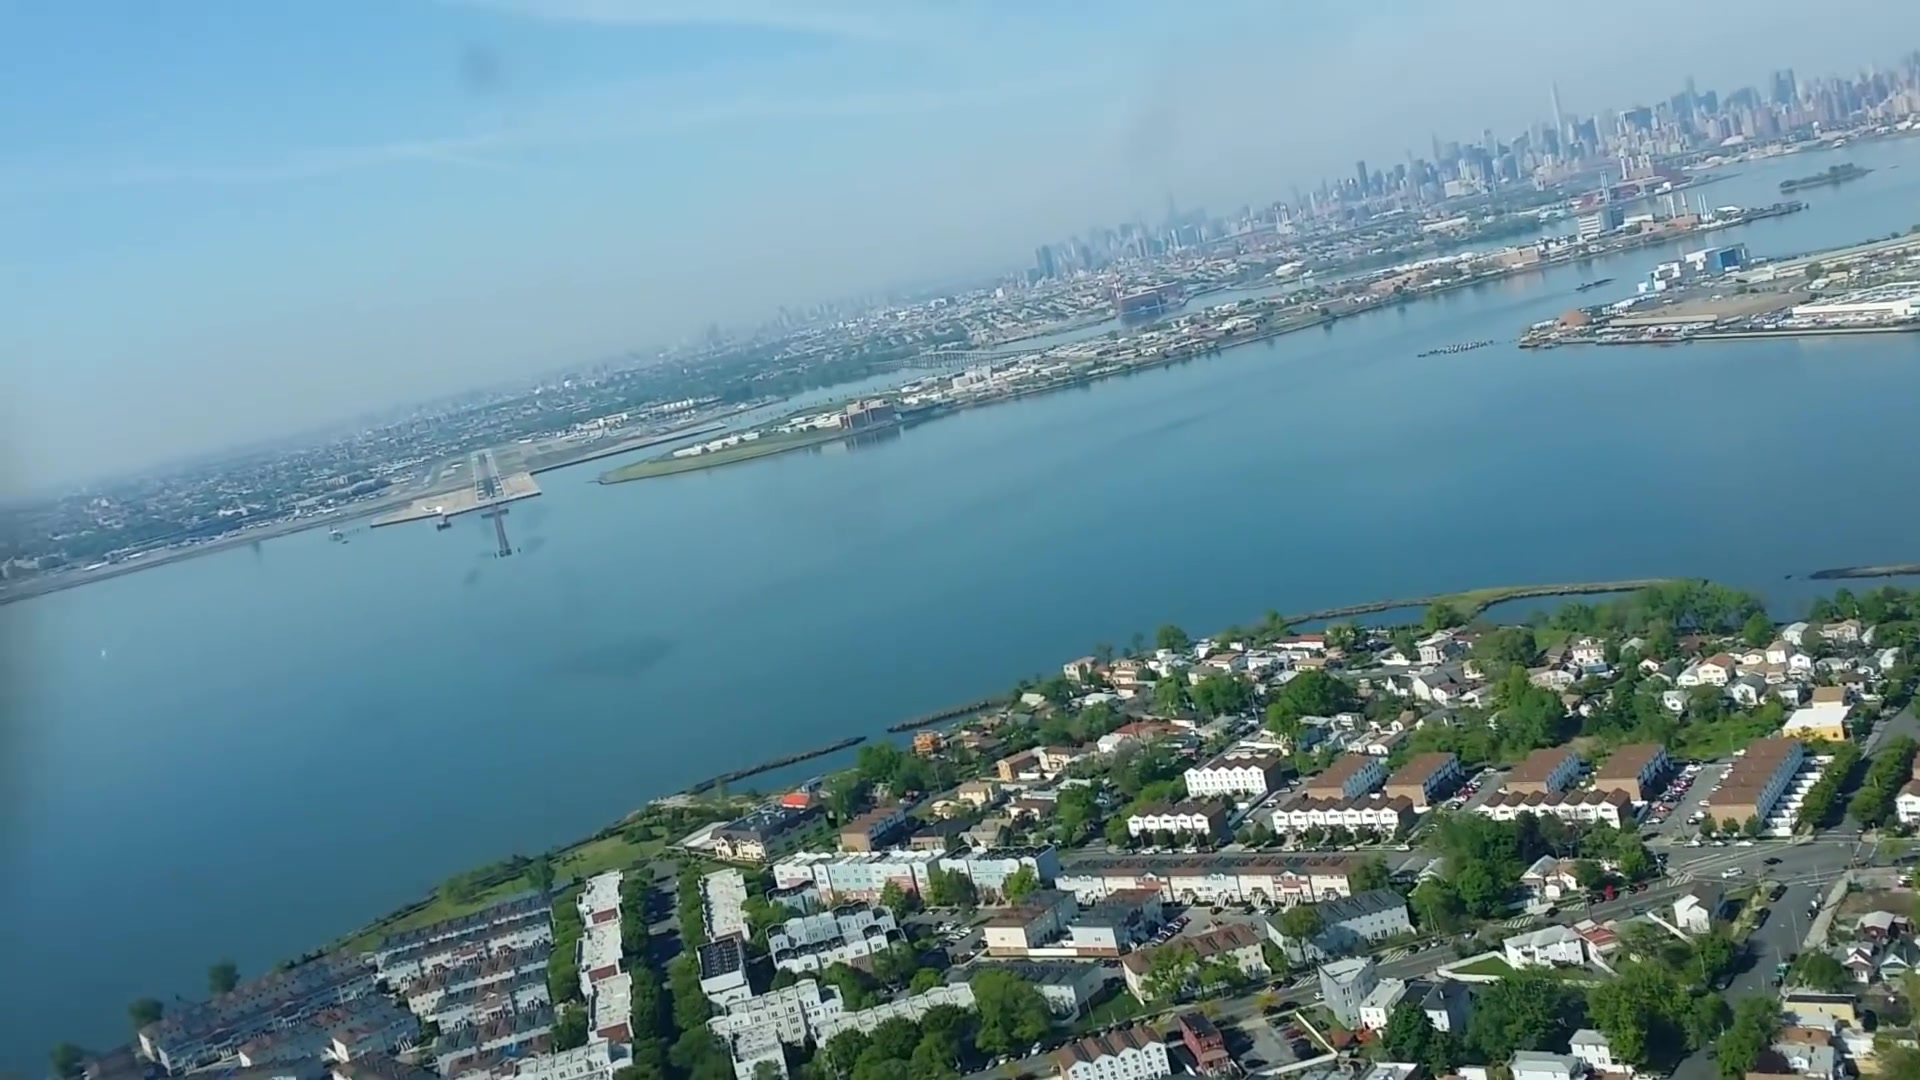runway: (469, 448, 505, 506)
